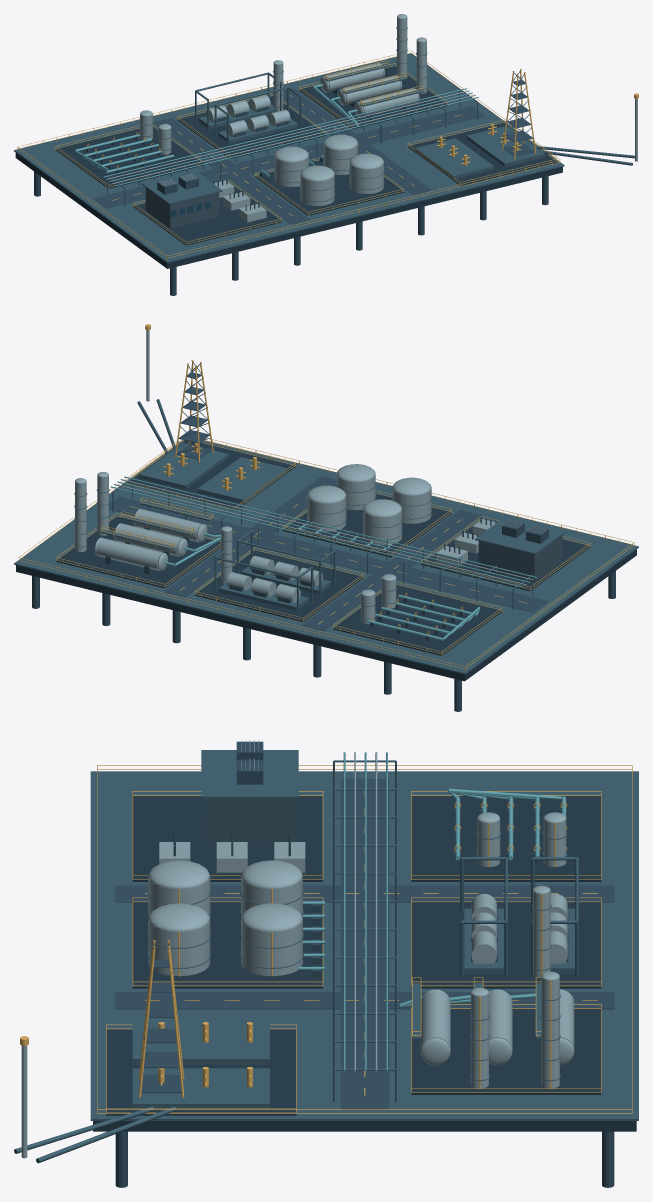
File: plant-model.glb
3 views of the same model, one above another, from view 1: azimuth 30°, elevation 25°; view 2: azimuth 150°, elevation 25°; view 3: azimuth 270°, elevation 25° (orthographic). The views are drawn at different scales.
Parts seen in each view (by area): view 1: Plant equipment (×38); view 2: Plant equipment (×36); view 3: Plant equipment (×49).
Part boxes in pixels (x1,y1,x2,y2): Plant equipment (×38): [14, 17, 564, 268]; Plant equipment (×36): [14, 440, 638, 681]; Plant equipment (×49): [14, 750, 638, 1187].
Bounding box in the file's own units: 213 × 57.08 × 141.
